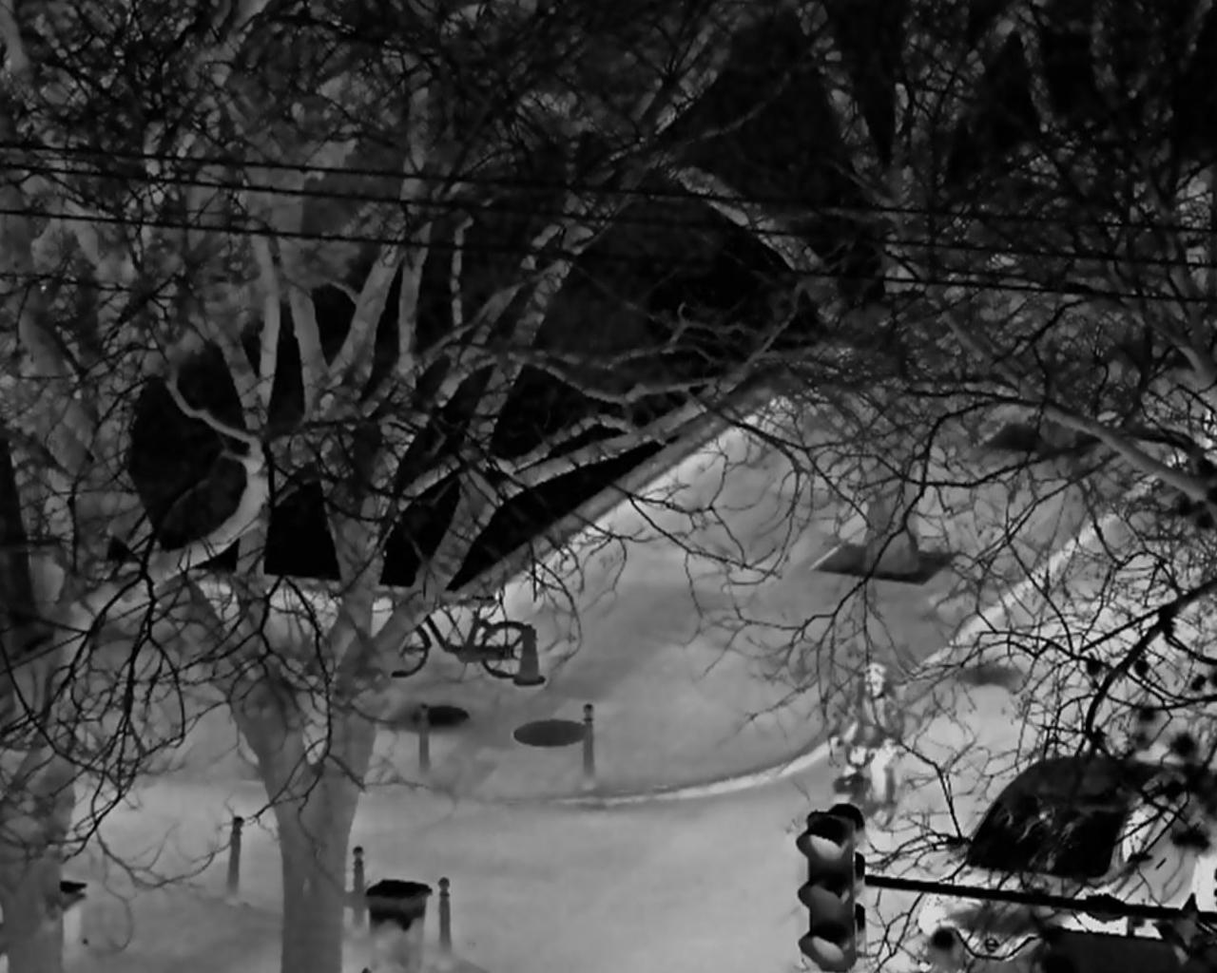person: (828, 662, 901, 830)
